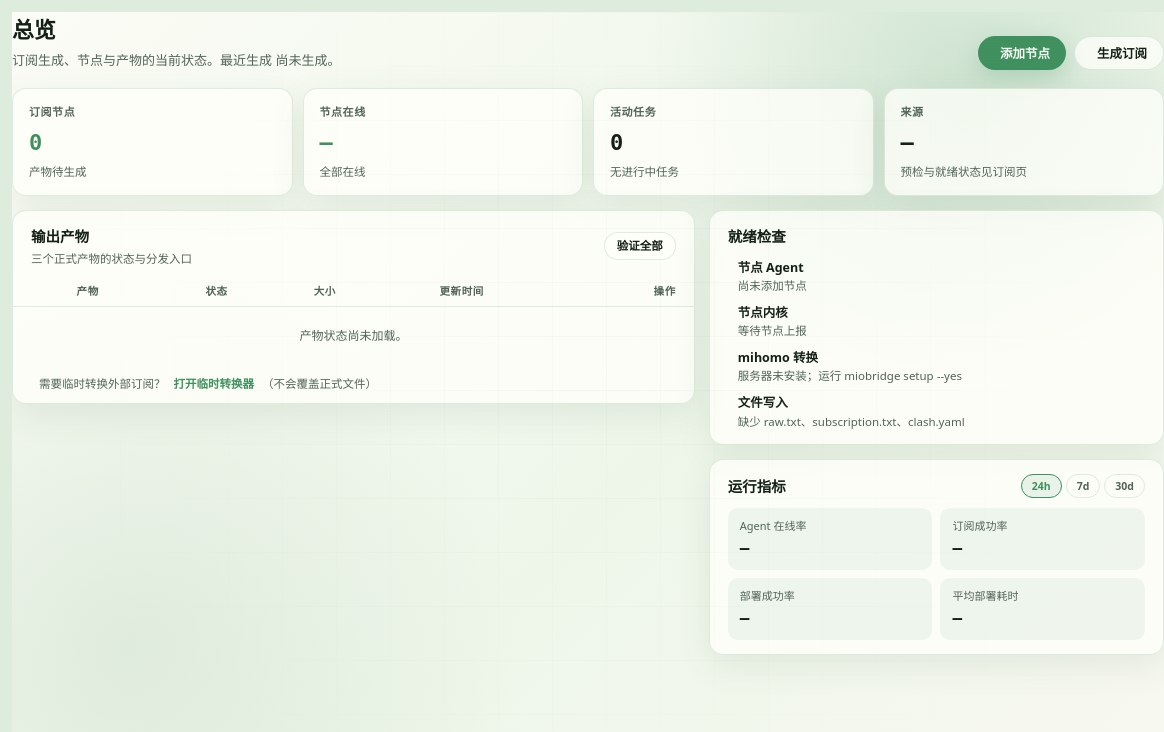
Dashboard 指标窗口竞态 › 先发的旧窗口响应后到时不得覆盖新窗口的数据
This screenshot has width=1164, height=732.
挂载时按默认的 24h 发起请求，此时切到 30d，两个请求同时在途。
Click the button "30d" at (1125, 486), box [1104, 474, 1145, 498]
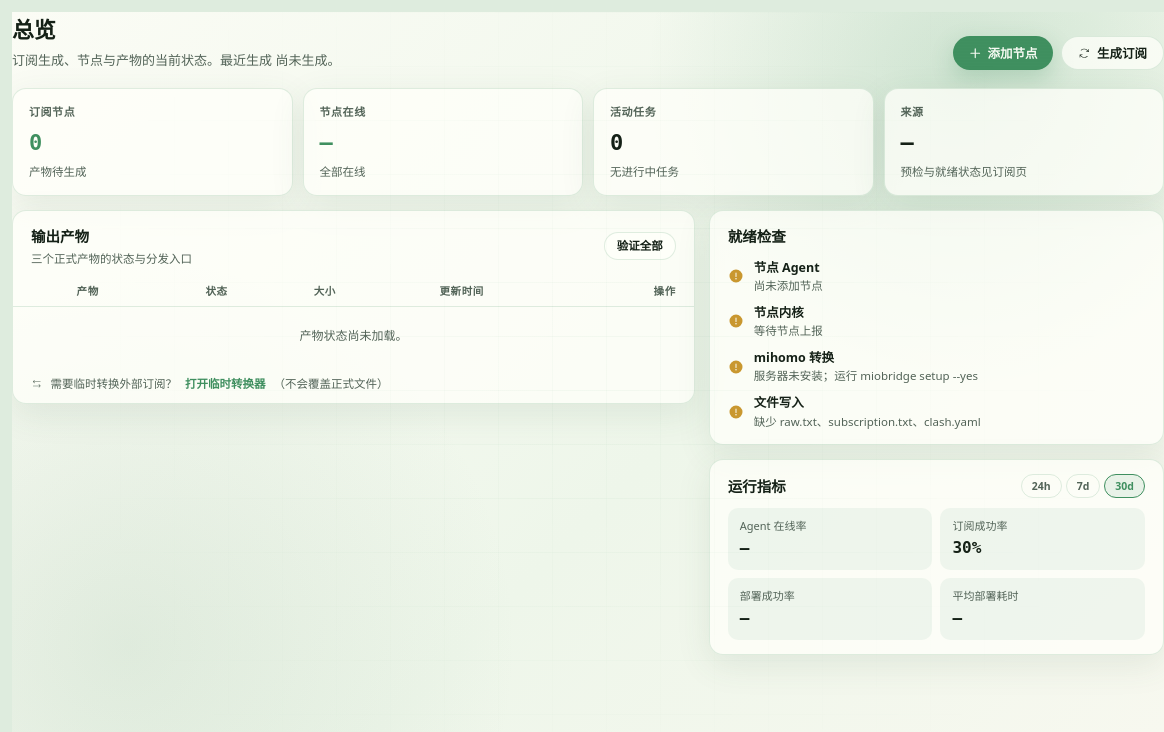
Check: the text "30%" is shown, box [952, 538, 981, 558]
